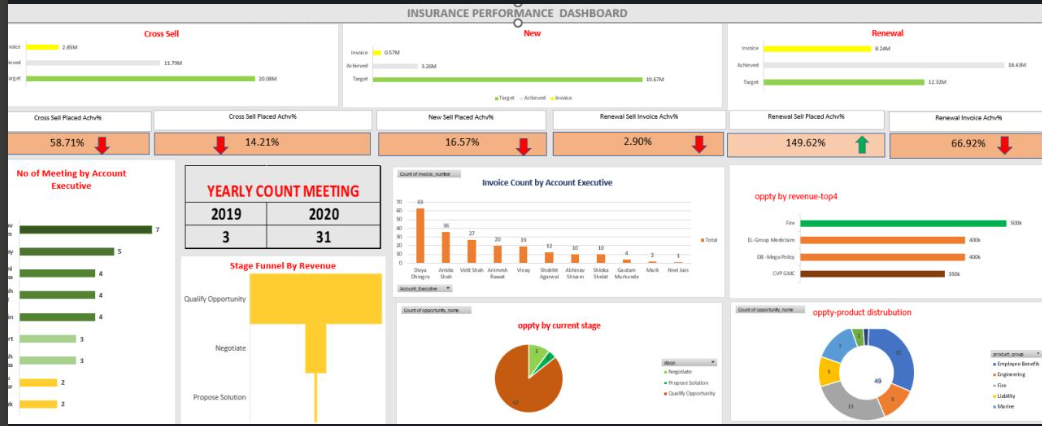

Layout of this report page (visuals, bound fields, positions):
{"tool":"powerbi","page":{"name":"Business Performance Dashboard","canvas":[1500,1000],"ordinal":0},"visuals":[{"type":"clusteredColumnChart","title":"Number of Invoices by Account Executive","fields":{"Category":["Tbl_invoice.Account Executive"],"Y":["Tbl_invoice.No of Invoices"]},"box":[538.3,710,461.7,265],"z":0},{"type":"card","title":"Total Invoices","fields":{"Values":["Tbl_invoice.No of Invoices"]},"box":[1030,11.7,90,45],"z":1000},{"type":"card","title":"Total Meetings","fields":{"Values":["Tbl_meetings.Yearly Meeting Count"]},"box":[1131.7,8.3,125,75],"z":2000},{"type":"clusteredBarChart","title":"No of Meetings by Account Executive","fields":{"Category":["Tbl_meetings.Account_Executive"],"Y":["Tbl_meetings.No of Meetings"]},"box":[481.7,378.3,493.3,281.7],"z":3000},{"type":"funnel","title":"Stage Funnel by revenue","fields":{"Category":["Tbl_opportunity.stage"],"Y":["Sum(Tbl_opportunity.revenue_amount)"]},"box":[38.3,706.7,408.3,268.3],"z":4000},{"type":"clusteredBarChart","title":"Opportunity by revenue-Top 4","fields":{"Category":["Tbl_opportunity.opportunity_name"],"Y":["Sum(Tbl_opportunity.revenue_amount)"]},"box":[1076.7,381.7,423.3,281.7],"z":5000},{"type":"donutChart","title":"Opportunity by product group","fields":{"Category":["Tbl_opportunity.product_group"],"Y":["Tbl_opportunity.Total Opportunities"]},"box":[1036.7,706.7,440,268.3],"z":6000},{"type":"clusteredBarChart","title":"New Business Performance","fields":{"Y":["Tbl_individualbudgets.New Target","Tbl_brokerage.New Placed","Tbl_invoice.New Invoice"]},"box":[38.3,100,481.7,281.7],"z":7000},{"type":"clusteredBarChart","title":"Cross sell Business Performance","fields":{"Y":["Tbl_individualbudgets.Cross sell Target","Tbl_brokerage.Cross sell Placed","Tbl_invoice.Cross sell Invoice"]},"box":[1093.3,106.7,406.7,243.3],"z":8000},{"type":"clusteredBarChart","title":"Renewal Business Performance","fields":{"Y":["Tbl_individualbudgets.Renewal Target","Tbl_brokerage.Renewal Placed","Tbl_invoice.Renewal Invoice"]},"box":[616.7,100,366.7,246.7],"z":9000},{"type":"pivotTable","fields":{"Rows":["Tbl_meetings.meeting_date.Variation.Date Hierarchy.Year"],"Values":["Tbl_meetings.Meeting Count"]},"box":[20,393.3,331.7,223.3],"z":10000},{"type":"textbox","box":[100,8.3,916.7,70],"z":11000},{"type":"slicer","fields":{"Values":["Tbl_individualbudgets.Account_Executive"]},"box":[1276.7,5,200,76.7],"z":11001}]}

Visuals, with their boxes on the page's 1500x1000 design canvas (x1, y1, x2, y2). These are canvas units, not pixel positions in the 1042x426 screenshot, which may show the page scaled, cropped or inside an application window:
"Number of Invoices by Account Executive" clusteredColumnChart: (538, 710, 1000, 975)
"Total Invoices" card: (1030, 12, 1120, 57)
"Total Meetings" card: (1132, 8, 1257, 83)
"No of Meetings by Account Executive" clusteredBarChart: (482, 378, 975, 660)
"Stage Funnel by revenue" funnel: (38, 707, 447, 975)
"Opportunity by revenue-Top 4" clusteredBarChart: (1077, 382, 1500, 663)
"Opportunity by product group" donutChart: (1037, 707, 1477, 975)
"New Business Performance" clusteredBarChart: (38, 100, 520, 382)
"Cross sell Business Performance" clusteredBarChart: (1093, 107, 1500, 350)
"Renewal Business Performance" clusteredBarChart: (617, 100, 983, 347)
pivotTable - Tbl_meetings.meeting_date.Variation.Date Hierarchy.Year x Tbl_meetings.Meeting Count: (20, 393, 352, 617)
textbox: (100, 8, 1017, 78)
slicer - Tbl_individualbudgets.Account_Executive: (1277, 5, 1477, 82)
